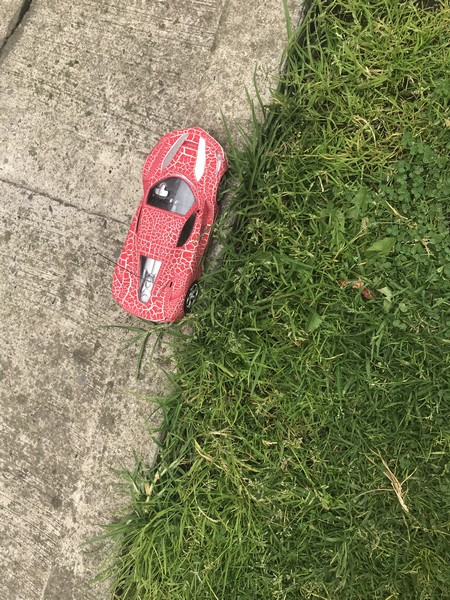RC: (110, 125, 232, 325)
